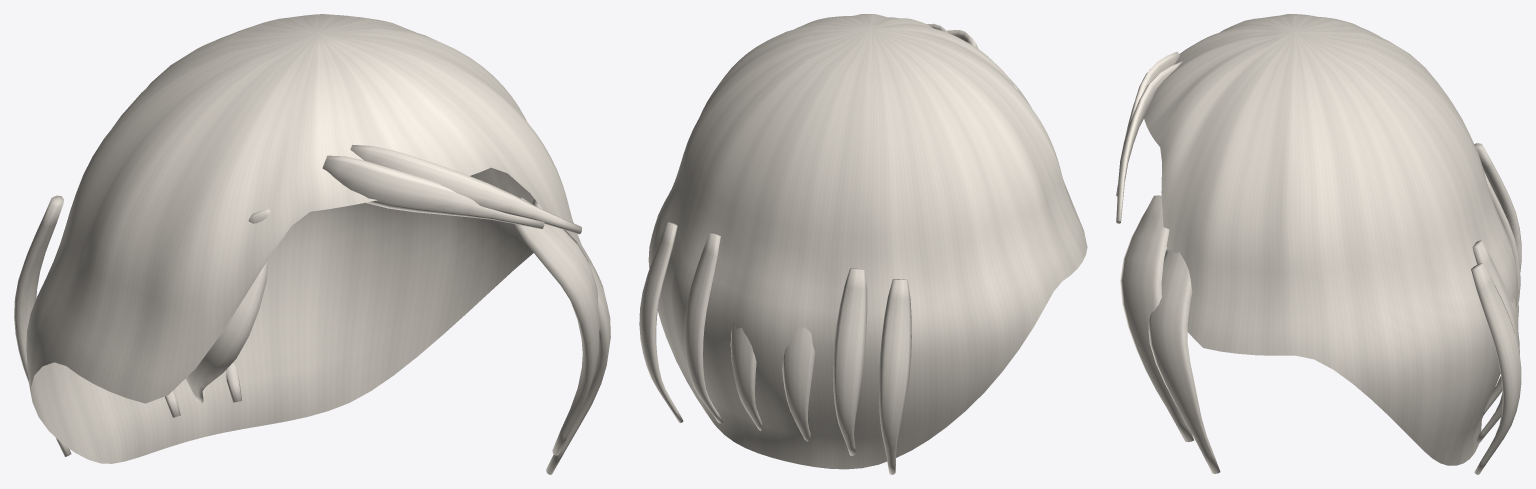
3 views of the same model, side by side, from view 1: azimuth 30°, elevation 25°; view 2: azimuth 150°, elevation 25°; view 3: azimuth 270°, elevation 25° (orthographic). The views are drawn at different scales.
Parts seen in each view (by area): view 1: Portrait hair p3; view 2: Portrait hair p3; view 3: Portrait hair p3.
Part boxes in pixels (x1,y1,x2,y2): Portrait hair p3: (14, 14, 610, 474); Portrait hair p3: (639, 14, 1087, 474); Portrait hair p3: (1116, 14, 1521, 474).
Size of the model in its own units: 1.08 by 0.995 by 0.916.
Materials: 1 (1 with a texture image).
